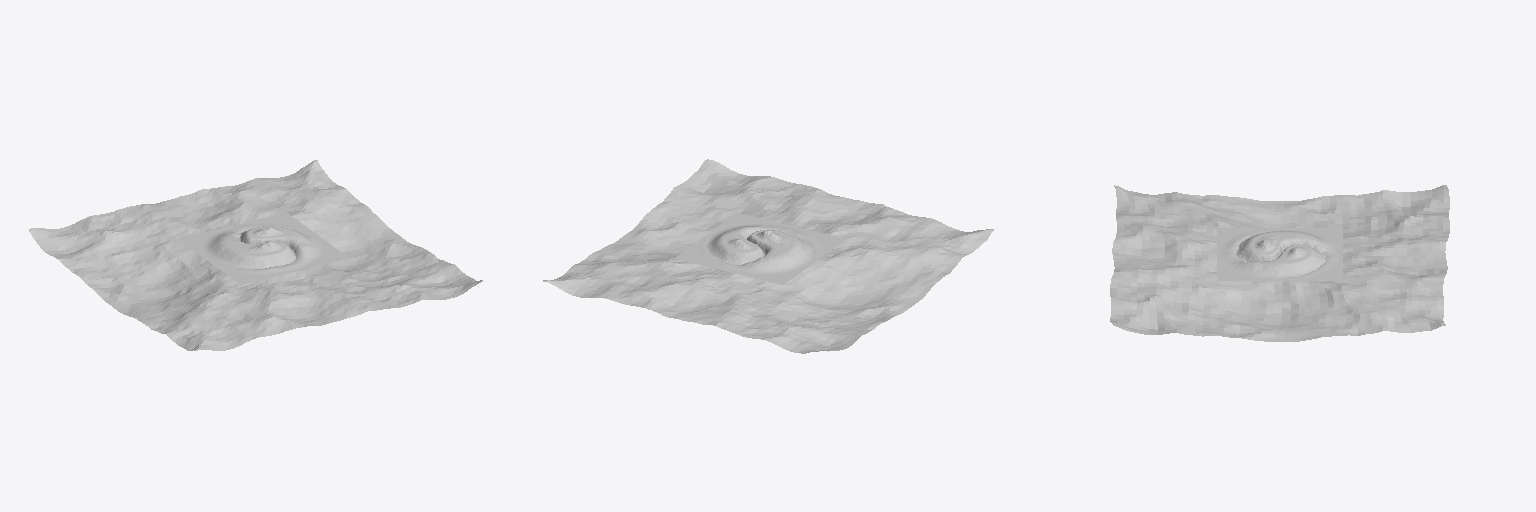
The model's file is level1.obj.
3 renders of one model, left to right at view 1: azimuth 30°, elevation 25°; view 2: azimuth 150°, elevation 25°; view 3: azimuth 270°, elevation 25°, orthographic.
Visible parts, largest first — view 1: Landscape, Landscape.001; view 2: Landscape, Landscape.001; view 3: Landscape, Landscape.001.
Part boxes in pixels (x1,y1,x2,y2): Landscape: (29,160,482,350); Landscape.001: (178,212,349,284); Landscape: (543,159,993,353); Landscape.001: (674,213,845,284); Landscape: (1110,185,1449,341); Landscape.001: (1217,228,1342,280).
Size of the model in its own units: 5.36 by 0.6387 by 5.39.